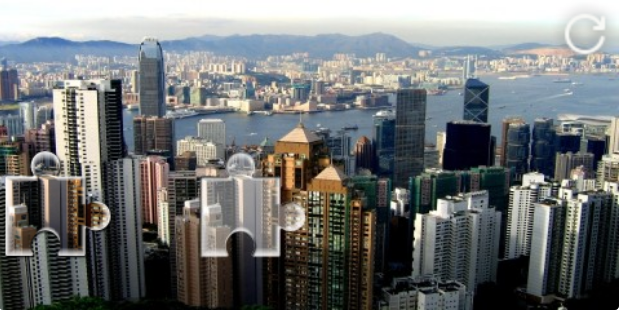target: (201, 153, 304, 258)
